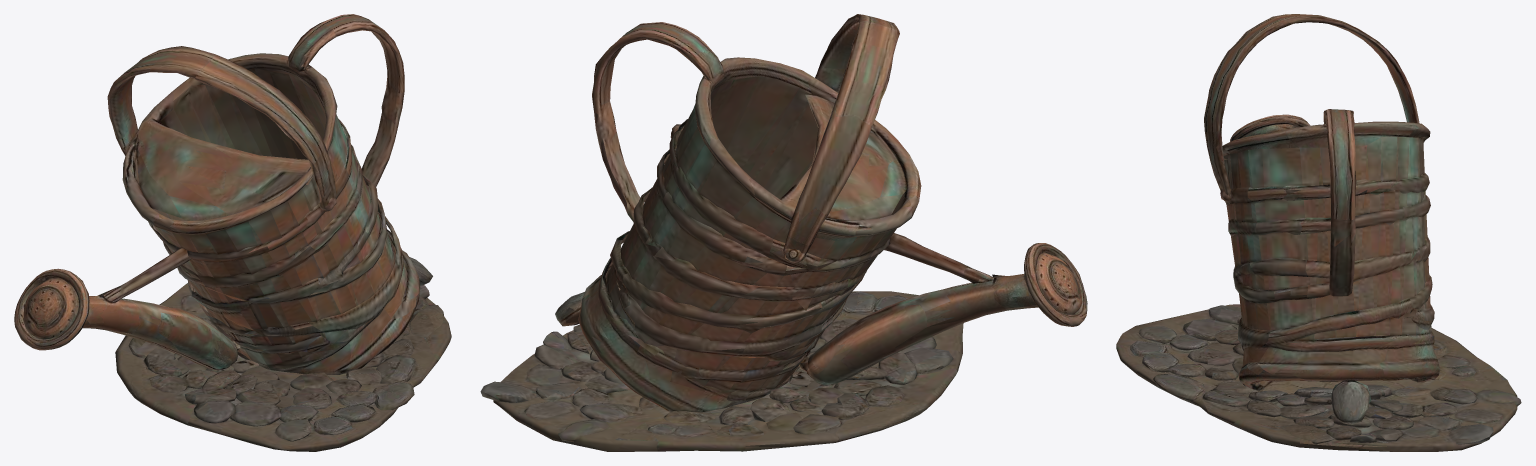
File: jd_regador.glb
3 renders of one model, left to right at view 1: azimuth 30°, elevation 25°; view 2: azimuth 150°, elevation 25°; view 3: azimuth 270°, elevation 25°, orthographic. The views are drawn at different scales.
Parts seen in each view (by area): view 1: mesh_node; view 2: mesh_node; view 3: mesh_node.
Boxes of the visible parts, bbox=[...] form: mesh_node: bbox=[14, 14, 451, 451]; mesh_node: bbox=[480, 14, 1087, 451]; mesh_node: bbox=[1116, 14, 1521, 451].
Bounding box in the file's own units: 0.4431 × 0.3486 × 0.3711.
1 material, 1 textured.
